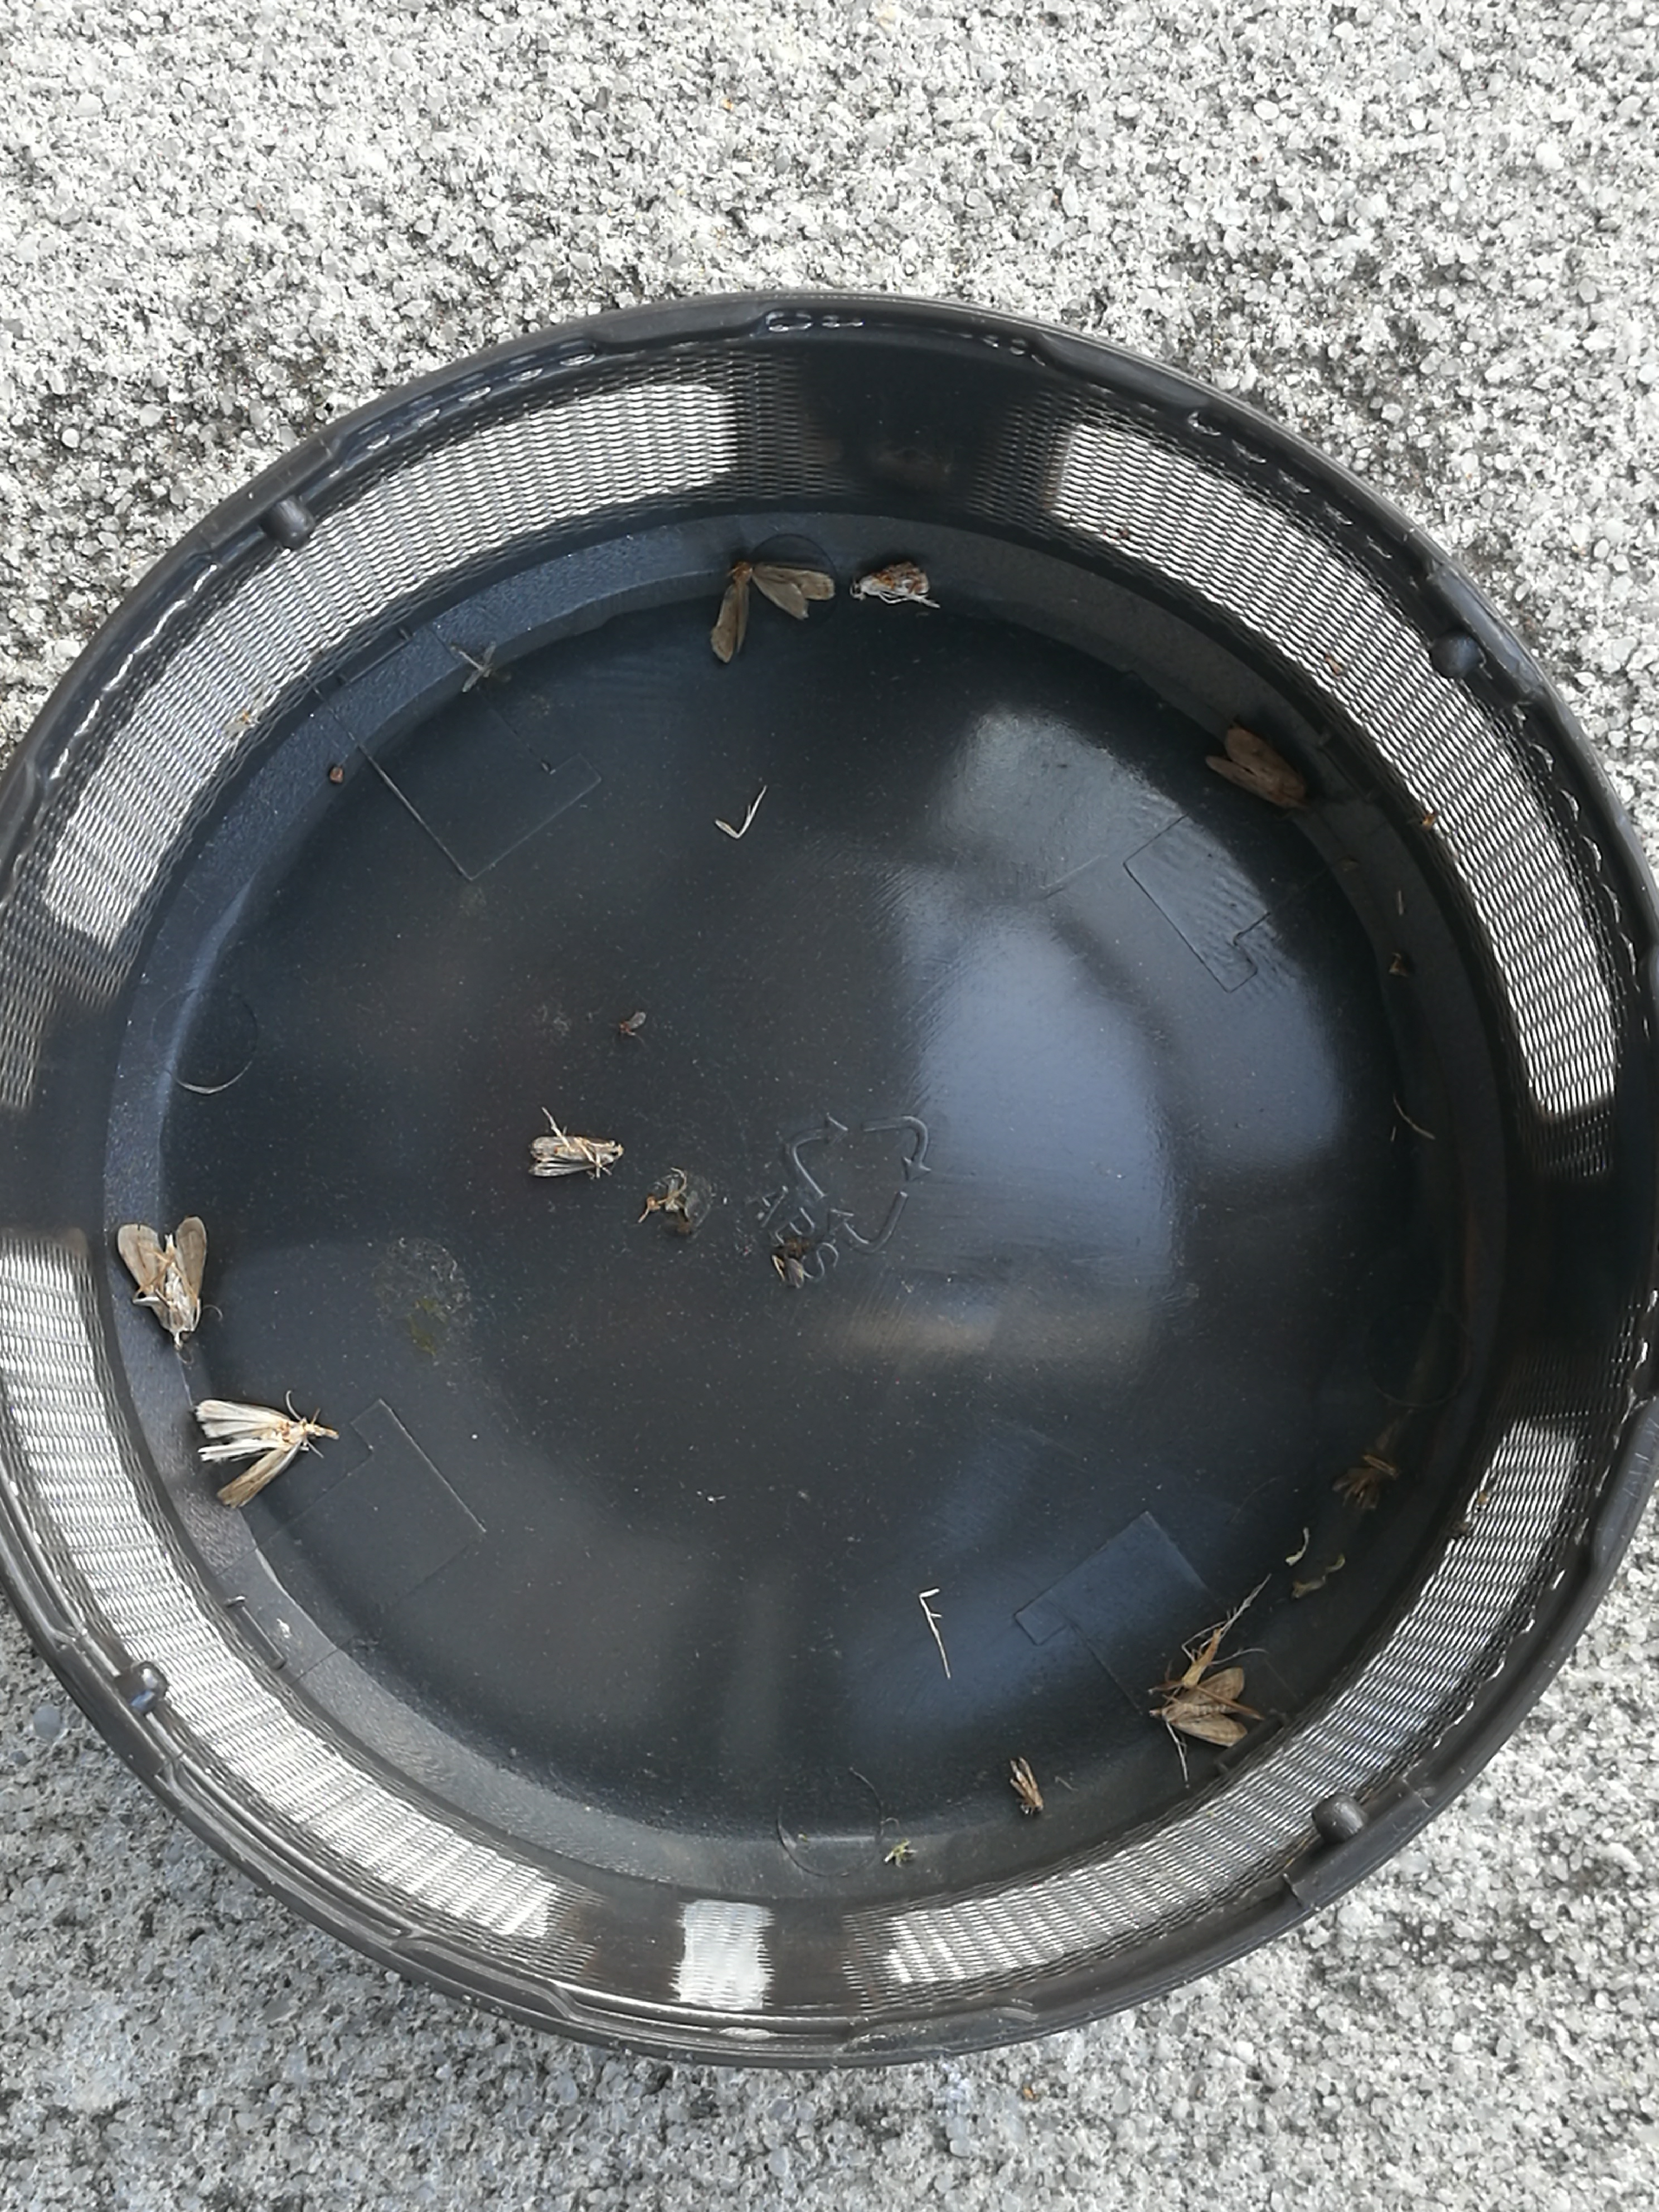mosquito: (1012, 1761, 1042, 1815)
moth: (709, 561, 835, 660), (197, 1400, 308, 1505), (117, 1217, 207, 1341), (1206, 728, 1305, 810), (1159, 1669, 1244, 1747), (530, 1134, 624, 1176), (859, 563, 929, 597)
